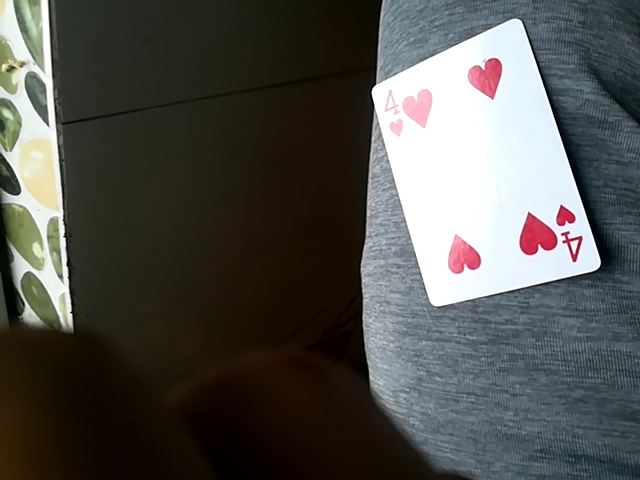hx 4: (369, 14, 602, 311)
